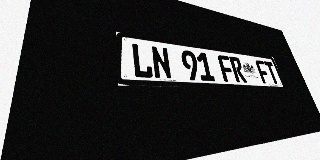1: (195, 52, 215, 81)
9: (180, 49, 201, 81)
F: (217, 55, 236, 82), (255, 60, 272, 84)
L: (131, 43, 154, 79)
N: (150, 45, 173, 79)
R: (229, 56, 247, 83)
T: (263, 61, 280, 84)
